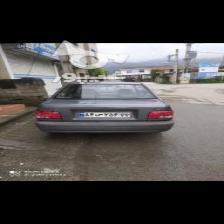plate: (74, 112, 131, 117)
